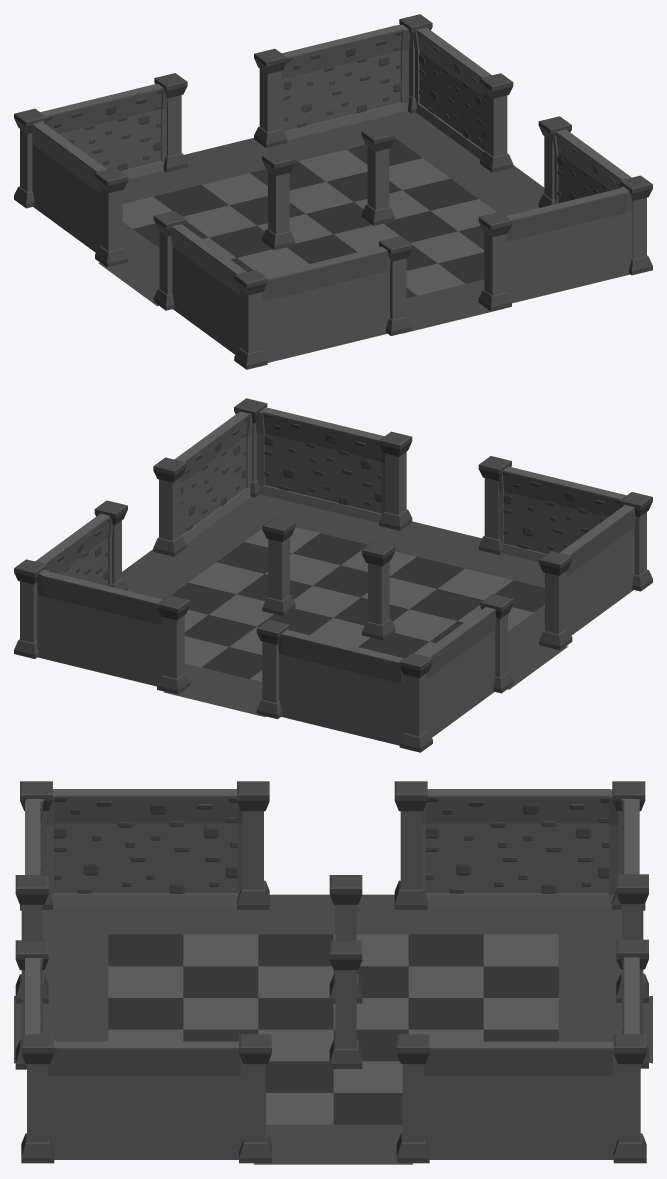
The model's file is StoneFloorRoomVar4.fbx.
3 renders of one model, top to bottom at view 1: azimuth 30°, elevation 25°; view 2: azimuth 150°, elevation 25°; view 3: azimuth 270°, elevation 25°, orthographic. The views are drawn at different scales.
Parts seen in each view (by area): view 1: StoneWallRoomVar4, StoneFloorRoomVar4; view 2: StoneWallRoomVar4, StoneFloorRoomVar4; view 3: StoneWallRoomVar4, StoneFloorRoomVar4.
Part boxes in pixels (bbox=[...]): StoneWallRoomVar4: bbox=[14, 14, 652, 369]; StoneFloorRoomVar4: bbox=[98, 111, 544, 333]; StoneWallRoomVar4: bbox=[14, 398, 652, 752]; StoneFloorRoomVar4: bbox=[122, 494, 567, 717]; StoneWallRoomVar4: bbox=[15, 781, 648, 1163]; StoneFloorRoomVar4: bbox=[14, 894, 652, 1164].
Size of the model in its own units: 7.96 by 1.62 by 7.96.
1 material, 1 textured.
